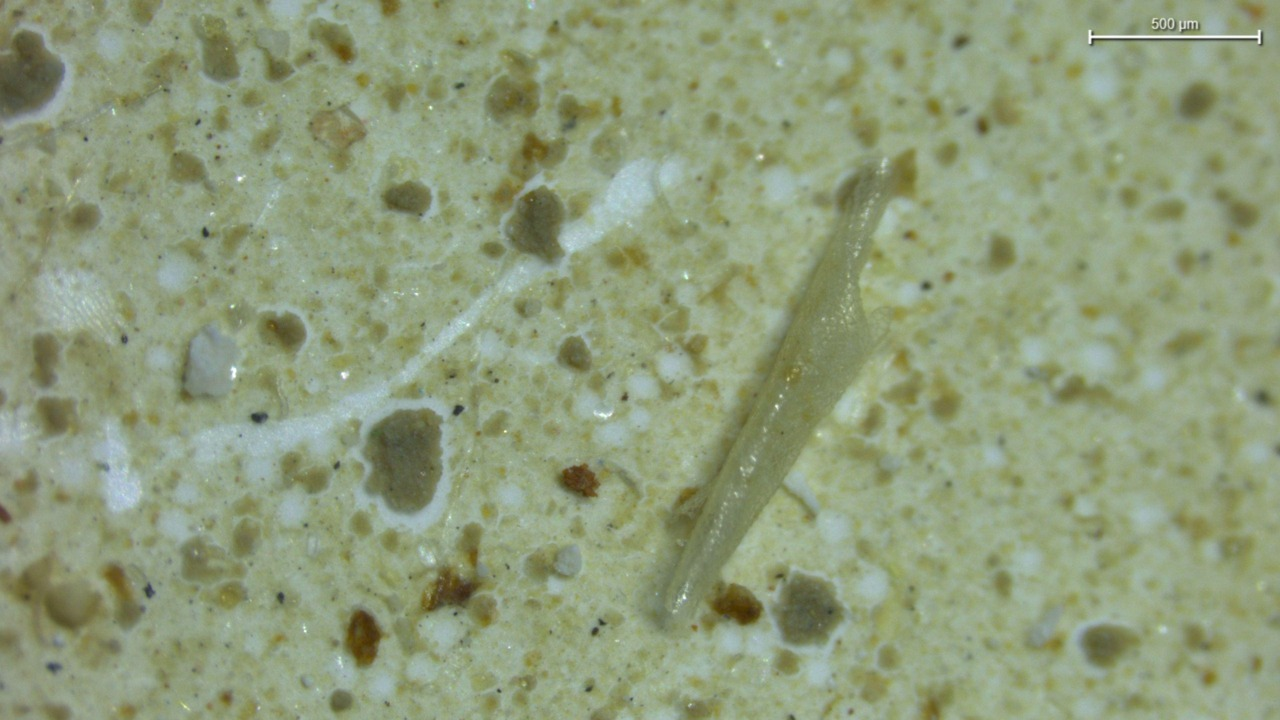microplastic_fragment: (646, 158, 891, 629), (183, 324, 238, 398), (553, 545, 583, 576)
